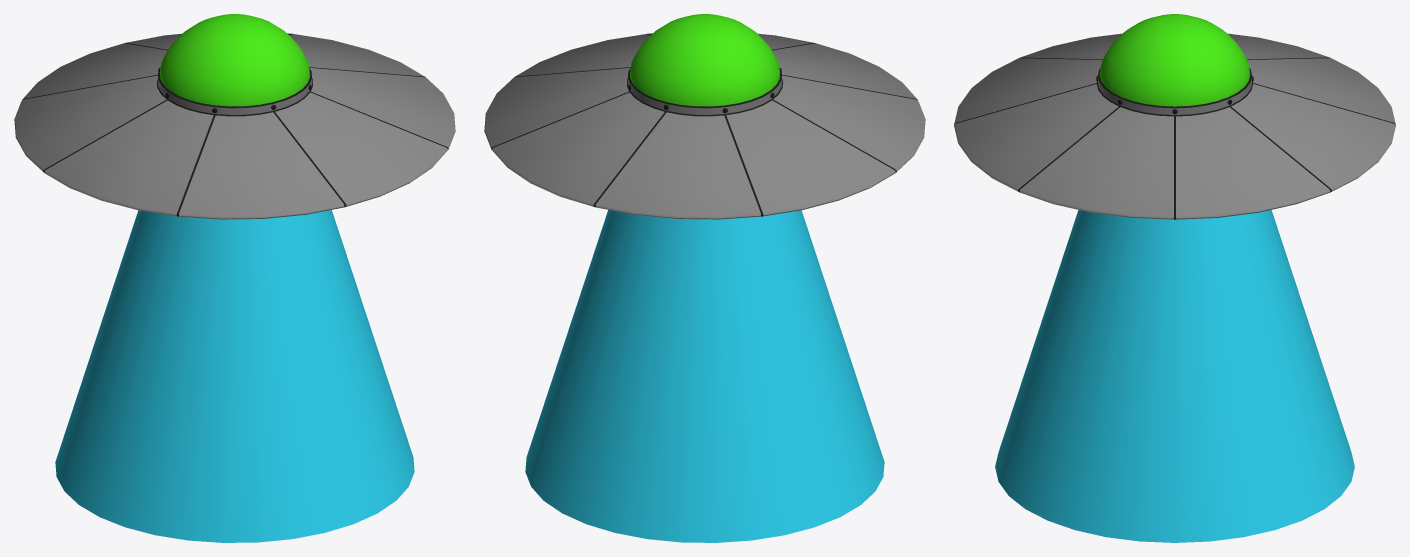
The model's file is ufo_basic_beam.glb.
The picture shows the model from 3 angles, left to right: view 1: azimuth 30°, elevation 25°; view 2: azimuth 150°, elevation 25°; view 3: azimuth 270°, elevation 25°; orthographic projection.
Visible parts, largest first — view 1: 3.013, 1.080, primary, 2.043; view 2: 3.013, 1.080, primary, 2.043; view 3: 3.013, 1.080, primary, 2.043.
Boxes of the visible parts, x1,y1,x2,y2 form: 3.013: (55, 210, 414, 542); 1.080: (14, 33, 455, 219); primary: (159, 14, 310, 106); 2.043: (22, 33, 448, 216); 3.013: (525, 210, 884, 542); 1.080: (484, 33, 925, 219); primary: (629, 14, 780, 106); 2.043: (491, 33, 917, 216); 3.013: (995, 210, 1354, 542); 1.080: (954, 33, 1395, 219); primary: (1099, 14, 1250, 106); 2.043: (954, 57, 1395, 219).
Bounding box in the file's own units: 0.7979 × 0.885 × 0.7979.
